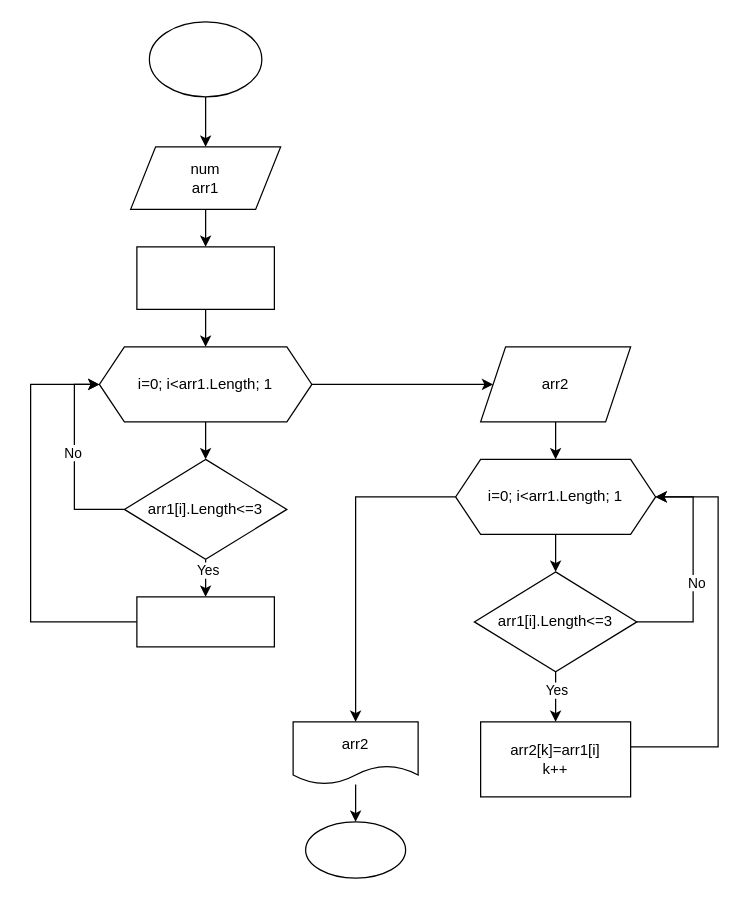
The diagram is 750 pixels wide and 900 high, and some of its shapes have lost their labels. Here are the shapes that lost their labels. From the top down, the centre of each, then its label:
At point (205, 59): "Start".
At point (205, 277): "count=0 k=0 n=3".
At point (205, 621): "count++".
At point (355, 849): "Finish".
